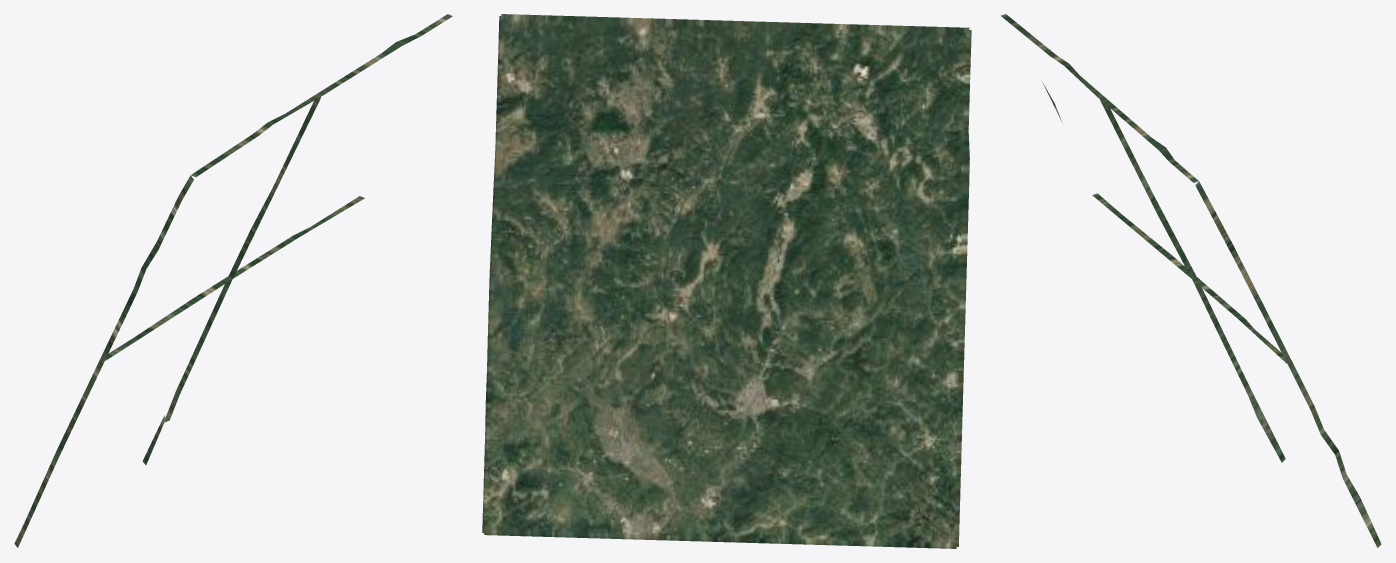
The picture shows the model from 3 angles, left to right: view 1: azimuth 30°, elevation 25°; view 2: azimuth 150°, elevation 25°; view 3: azimuth 270°, elevation 25°; orthographic projection. The views are drawn at different scales.
Bounding box in the file's own units: 158153 × 144213 × 123000.
1 material, 1 textured.
